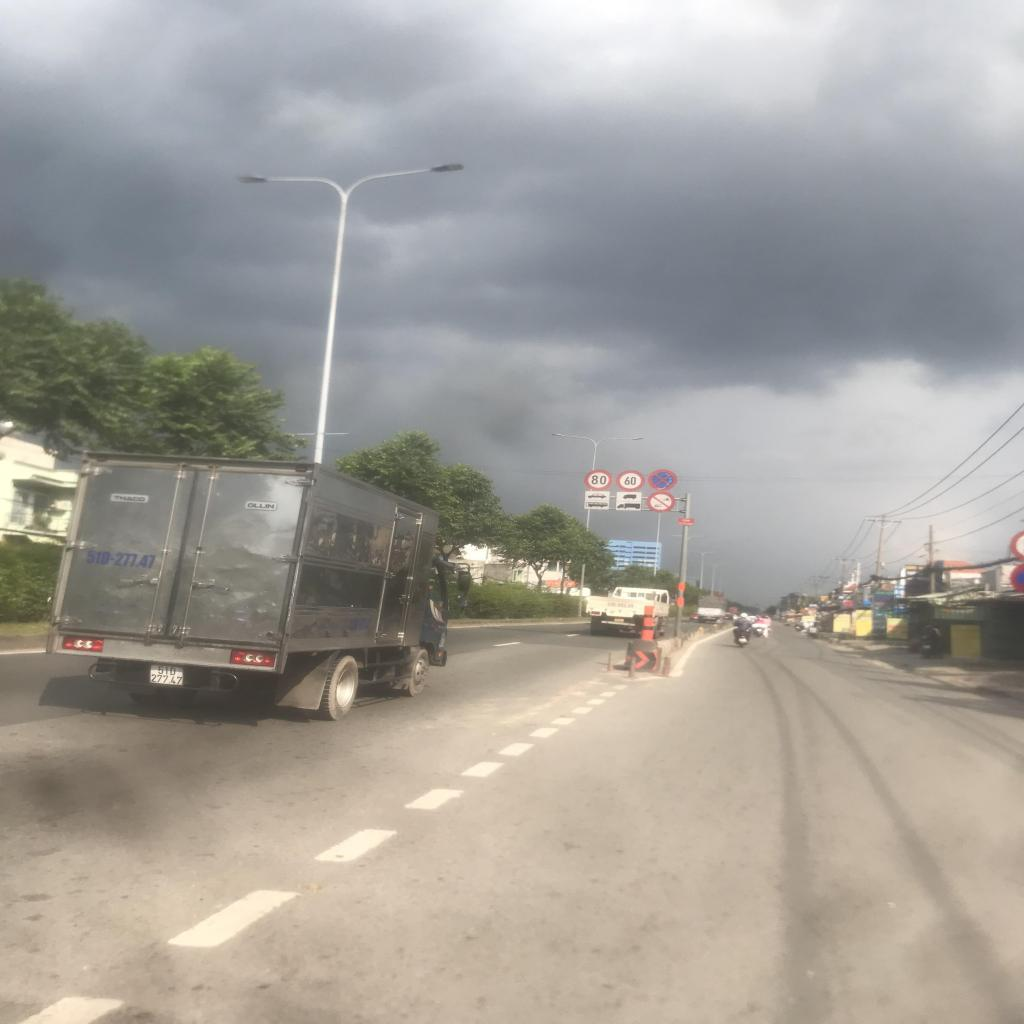cam_dung_xe_va_do_xe: (648, 470, 677, 490)
cam_xe_2_banh_va_xe_3_banh_co_dong_co: (646, 492, 675, 512)
khac: (616, 501, 641, 511), (616, 492, 642, 501), (585, 491, 610, 500), (584, 500, 609, 509)
toc_do_toi_da_60: (616, 470, 645, 492)
toc_do_toi_da_80: (584, 469, 612, 491)
